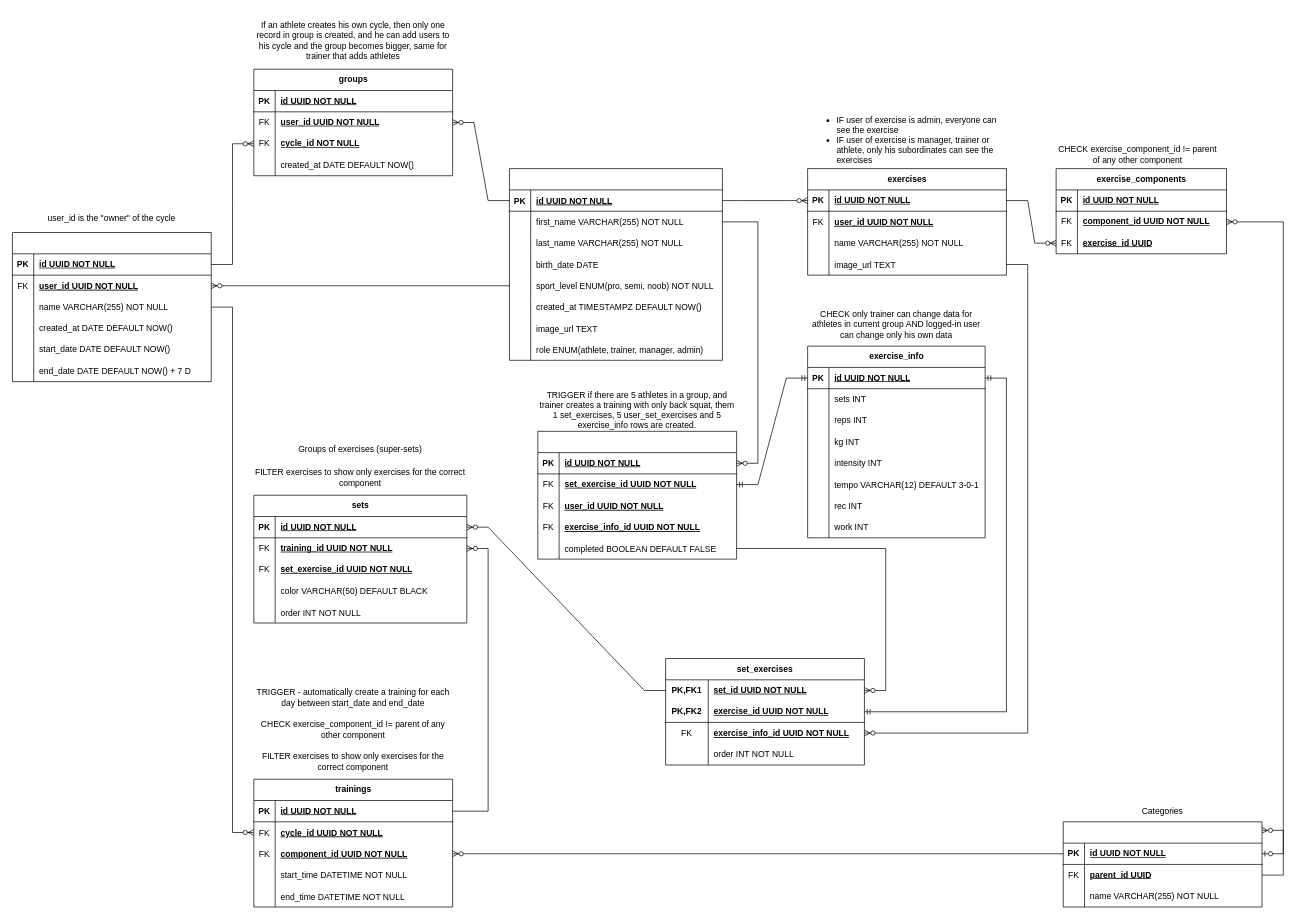
The diagram is 1302 pixels wide and 919 high, and some of its shapes have lost their labels. Here are the shapes that lost their labels. From the top down, the box of each, then its label:
(509, 168, 722, 360): users
(12, 232, 211, 382): cycles
(537, 431, 737, 559): user_set_exercises
(1063, 821, 1262, 907): components
